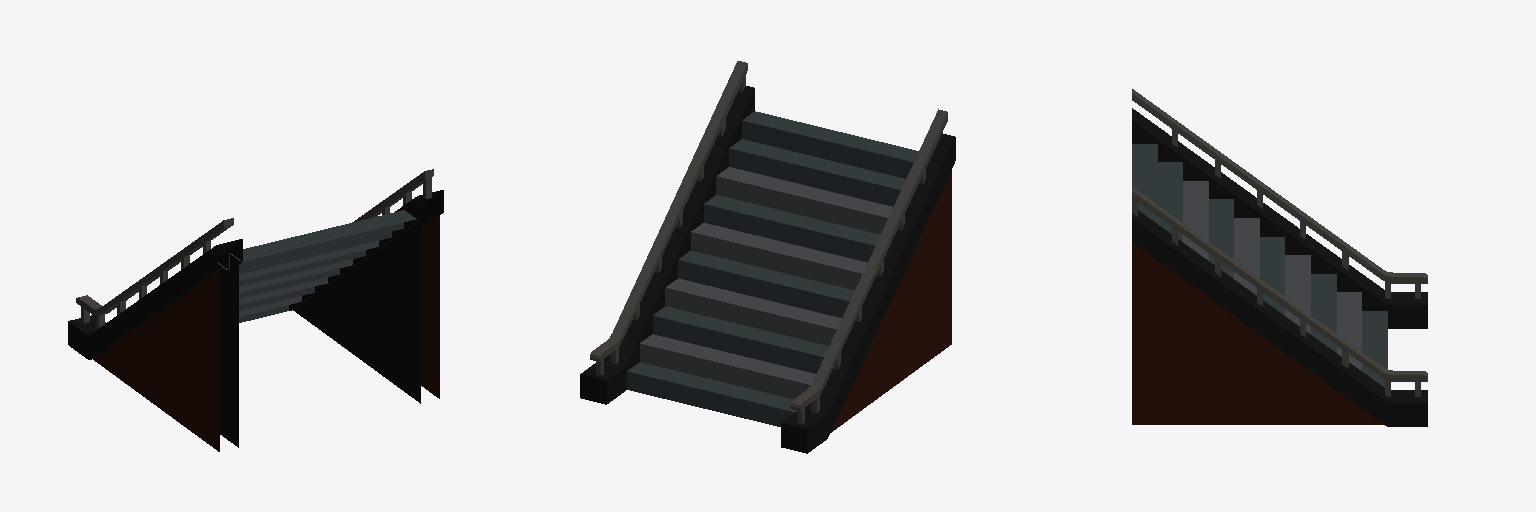
The model's file is SM_StairCase_02.obj.
3 renders of one model, left to right at view 1: azimuth 30°, elevation 25°; view 2: azimuth 150°, elevation 25°; view 3: azimuth 270°, elevation 25°, orthographic.
Visible parts, largest first — view 1: SM_StairCase:SM_StairCase1; view 2: SM_StairCase:SM_StairCase1; view 3: SM_StairCase:SM_StairCase1.
Boxes of the visible parts, x1,y1,x2,y2 form: SM_StairCase:SM_StairCase1: [68, 169, 443, 451]; SM_StairCase:SM_StairCase1: [580, 61, 955, 453]; SM_StairCase:SM_StairCase1: [1132, 89, 1427, 426].
Bounding box in the file's own units: 5.13 × 5.01 × 5.8.